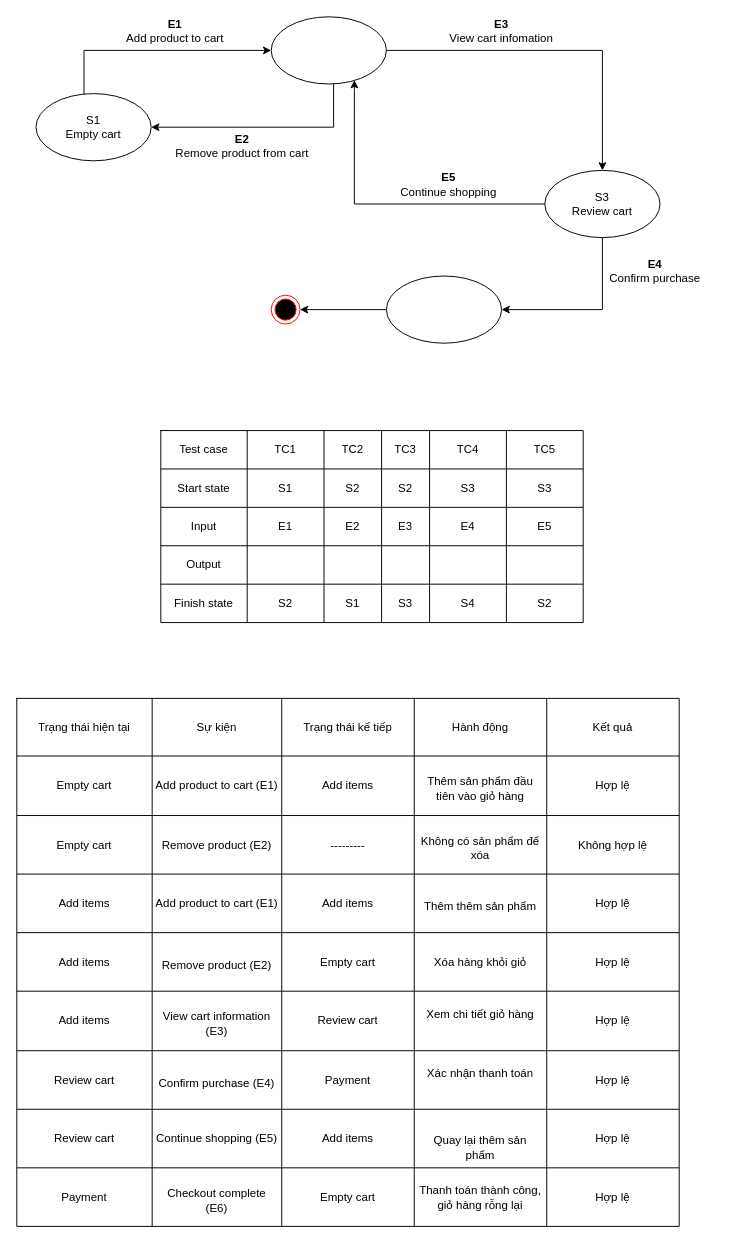
The diagram is 744 pixels wide and 1243 high, and some of its shapes have lost their labels. The shapes that lost their labels are listed below. From the top down, each one's centre as x and y in pixels, then its label:
At point 328,50: "S2 Add items".
At point 443,309: "S4 Payment".
